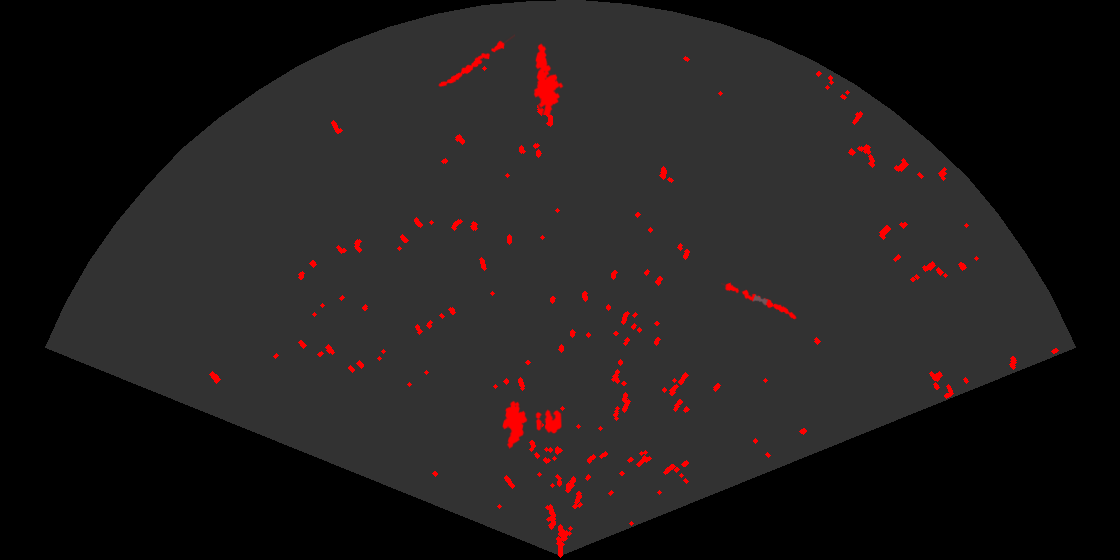AUV: (501, 399, 529, 451)
ball: (534, 408, 563, 435)
chain: (437, 34, 515, 89), (721, 281, 798, 321)
frogman: (532, 41, 565, 115)
